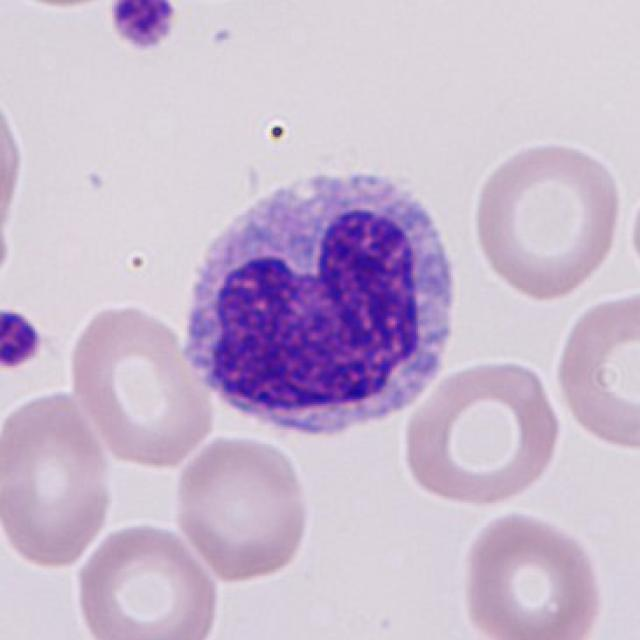Monocyte: (171, 156, 472, 448)
Platelets: (103, 0, 182, 54), (0, 305, 47, 375)
RBC: (467, 134, 628, 304), (63, 298, 219, 470), (397, 355, 566, 510), (168, 432, 315, 584), (0, 387, 117, 574), (456, 506, 608, 640), (70, 518, 224, 640), (551, 286, 640, 454), (0, 76, 28, 257)
